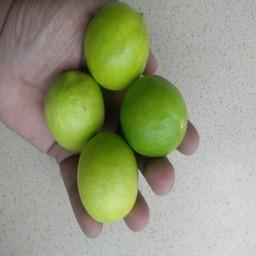Good_lime: (81, 0, 152, 92), (76, 131, 140, 227), (120, 74, 189, 159), (45, 68, 104, 148)
